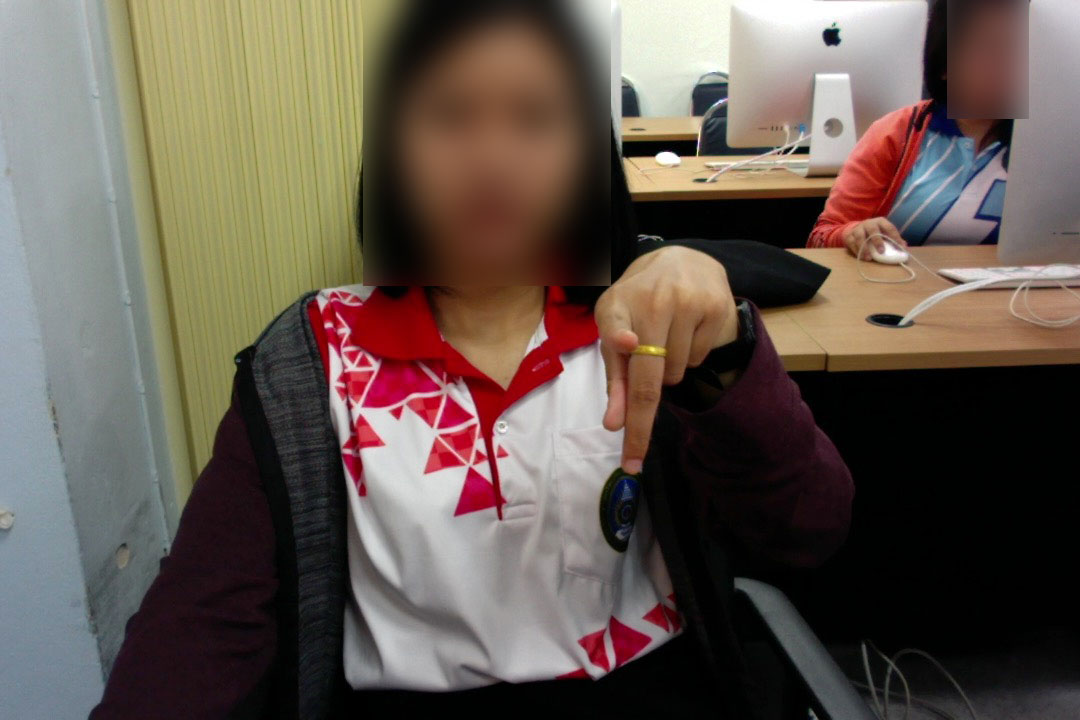por: (594, 239, 743, 476)
